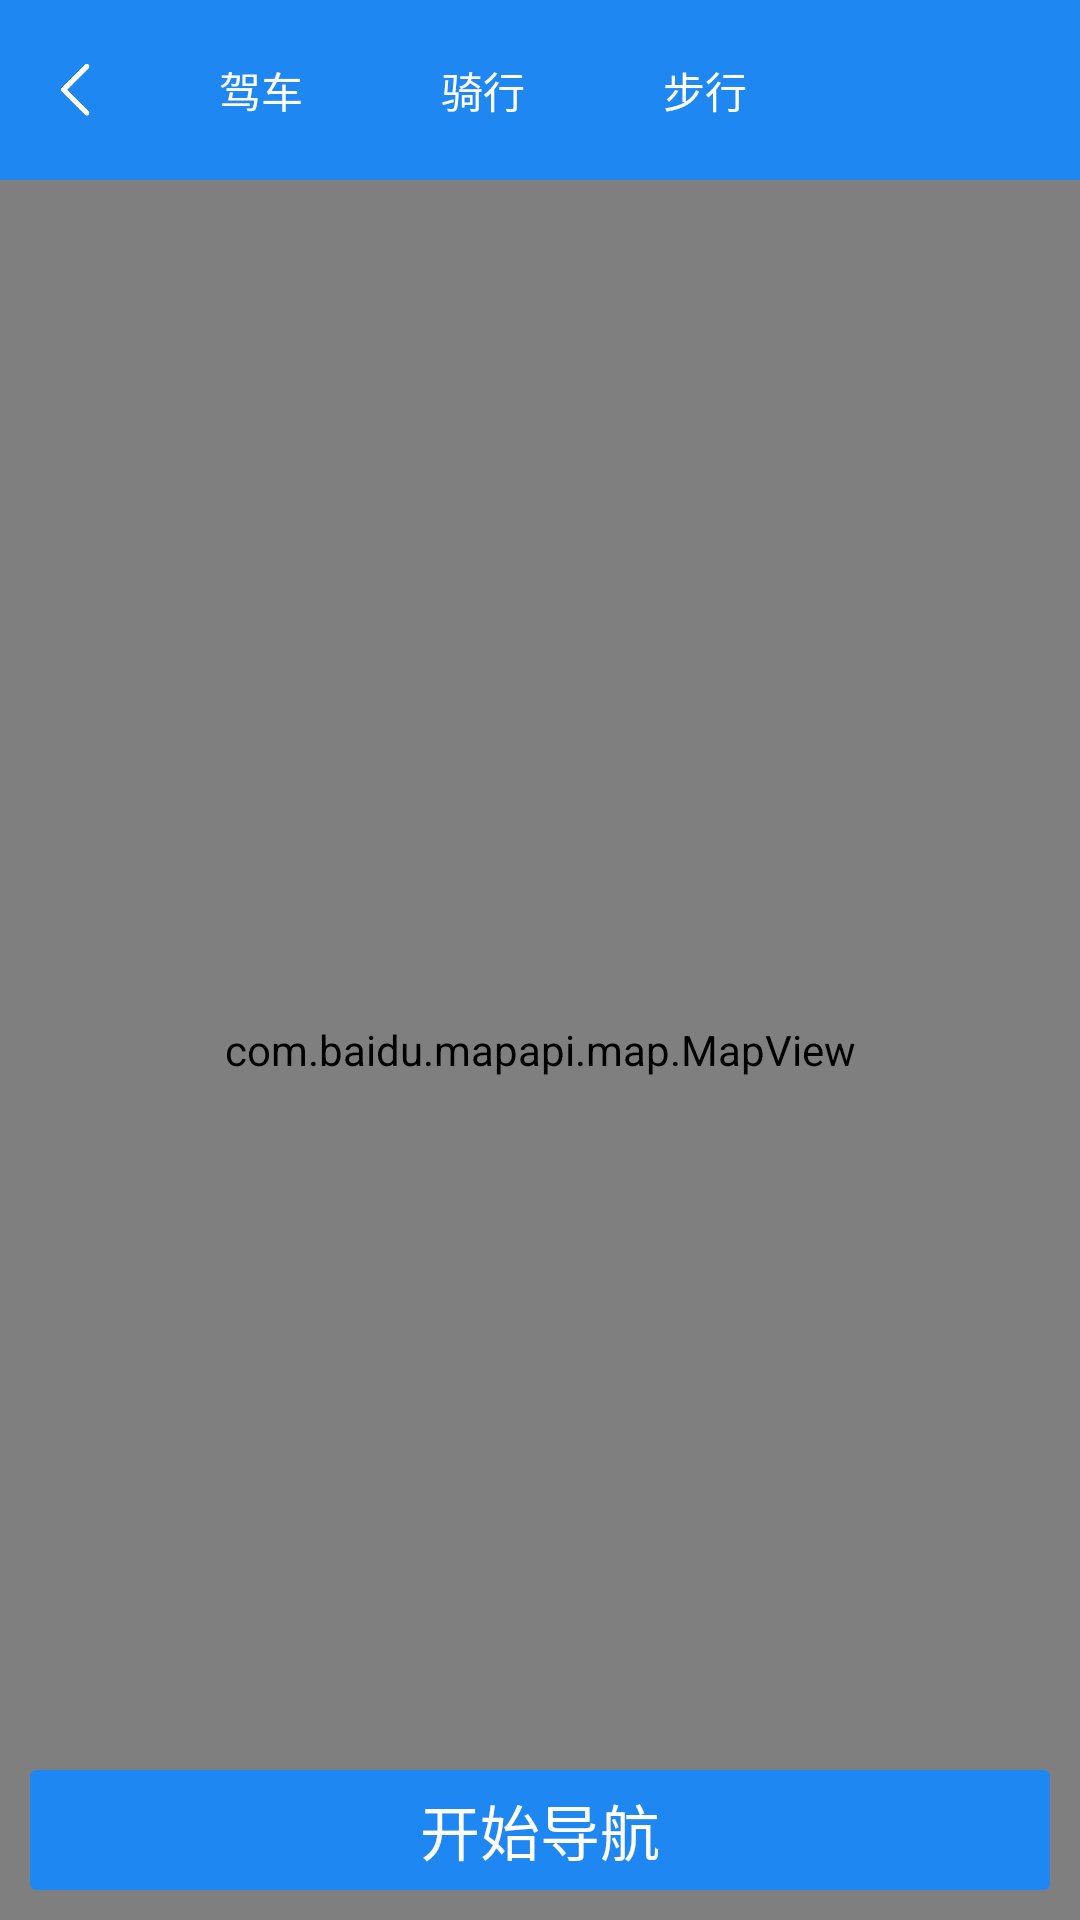

Icon click points for this 1080px×1920px phone screenshot, format point (x, y):
back: point (75, 90)
